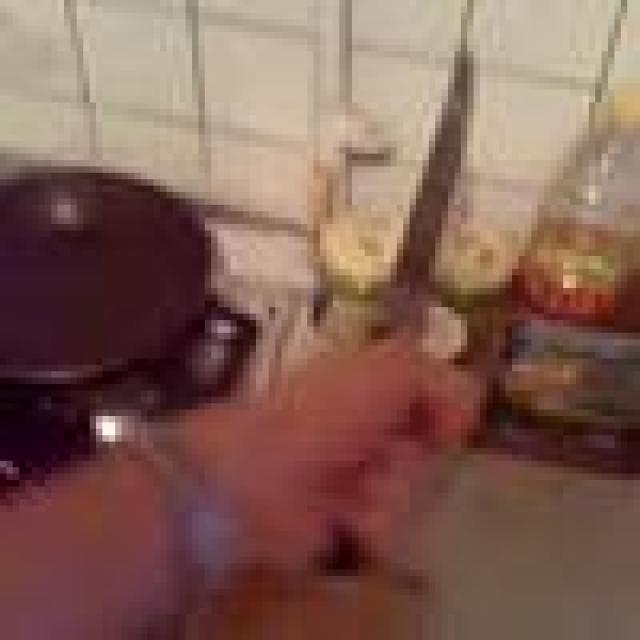knife: (414, 18, 480, 328)
